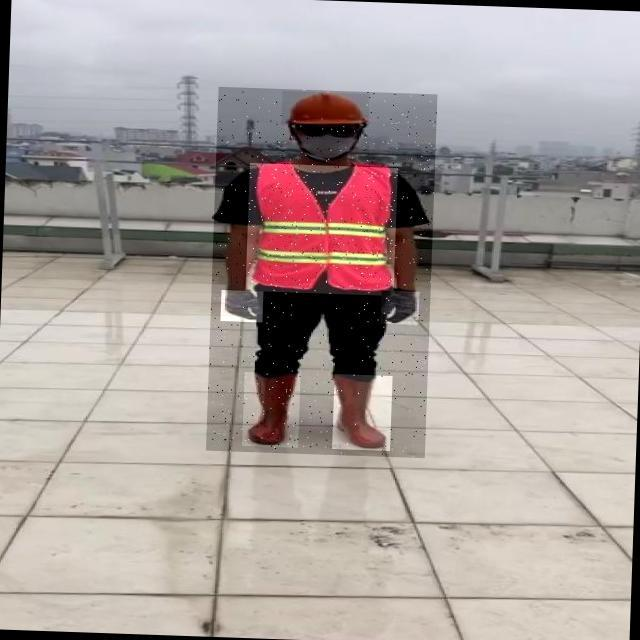Gloves: (220, 290, 263, 322), (380, 291, 419, 325)
Helmet: (281, 91, 369, 128)
Human: (205, 87, 437, 458)
Safety Boot: (332, 374, 393, 451), (242, 372, 301, 448)
Safety Vest: (245, 163, 398, 296)
